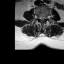CCS_severe_stenosis: (41, 14, 43, 22)
LFS_normal: (45, 14, 47, 20)
LLS_normal: (43, 14, 45, 21)
RFS_normal: (38, 14, 39, 20)
RLS_normal: (39, 14, 41, 21)
